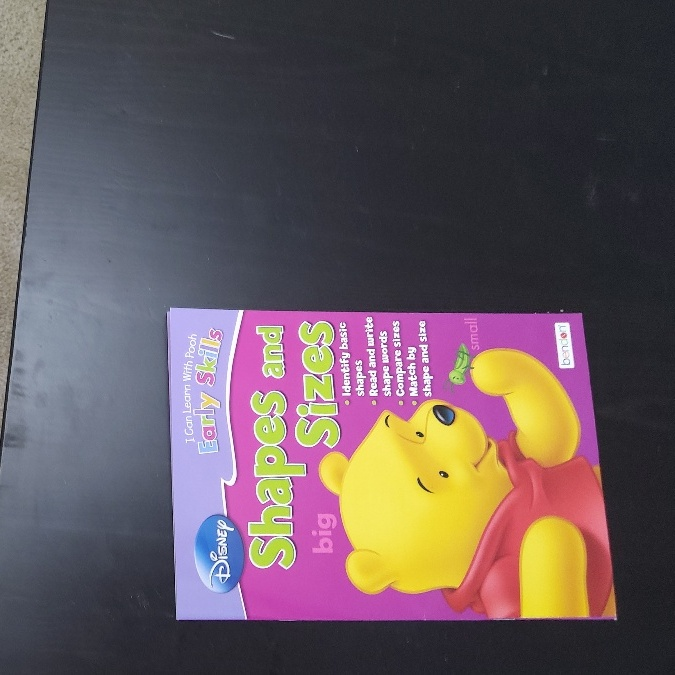book: (171, 310, 606, 621)
